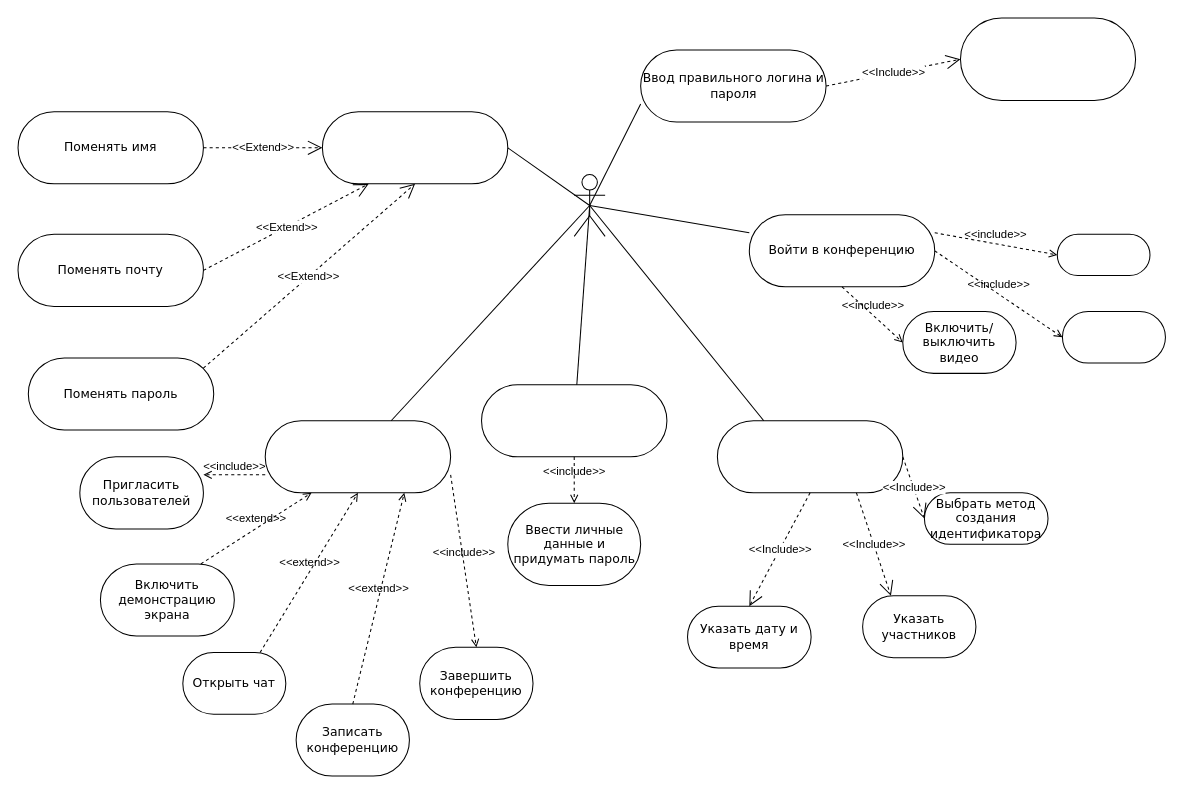
Image size: 1183x794. Some labels were removed from this diagram. The box of each missing label's shape, as (x1, y1, x2, y2) in pixels:
Ввести идентификатор: (1056, 233, 1150, 276)
Включить/выключить звук: (1061, 311, 1165, 363)
Вход в учетную запись: (959, 17, 1136, 100)
Запланировать встречу: (716, 420, 903, 493)
Зарегистрироваться: (480, 384, 667, 457)
Пользователь: (573, 174, 605, 236)
Редактировать свой профиль: (321, 111, 508, 184)
Создать конференцию: (264, 420, 451, 493)
